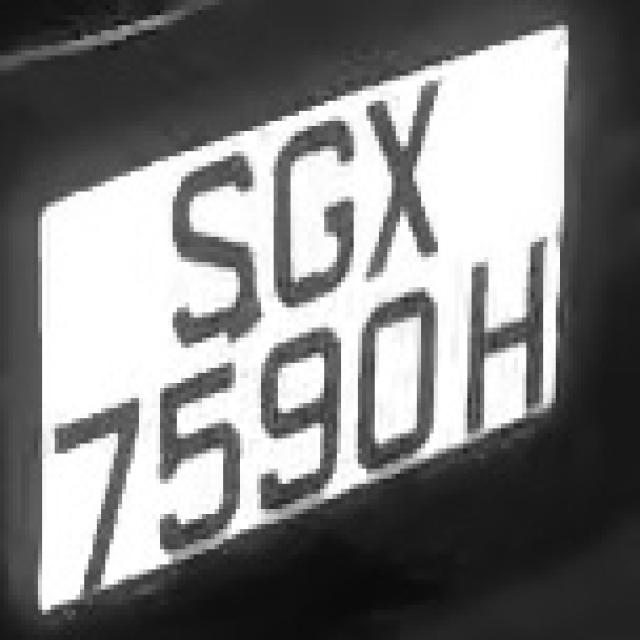0: (350, 282, 450, 479)
5: (148, 353, 245, 544)
7: (51, 383, 148, 600)
9: (248, 317, 349, 514)
G: (261, 106, 362, 302)
H: (459, 222, 564, 448)
S: (152, 146, 265, 348)
X: (349, 66, 455, 287)
